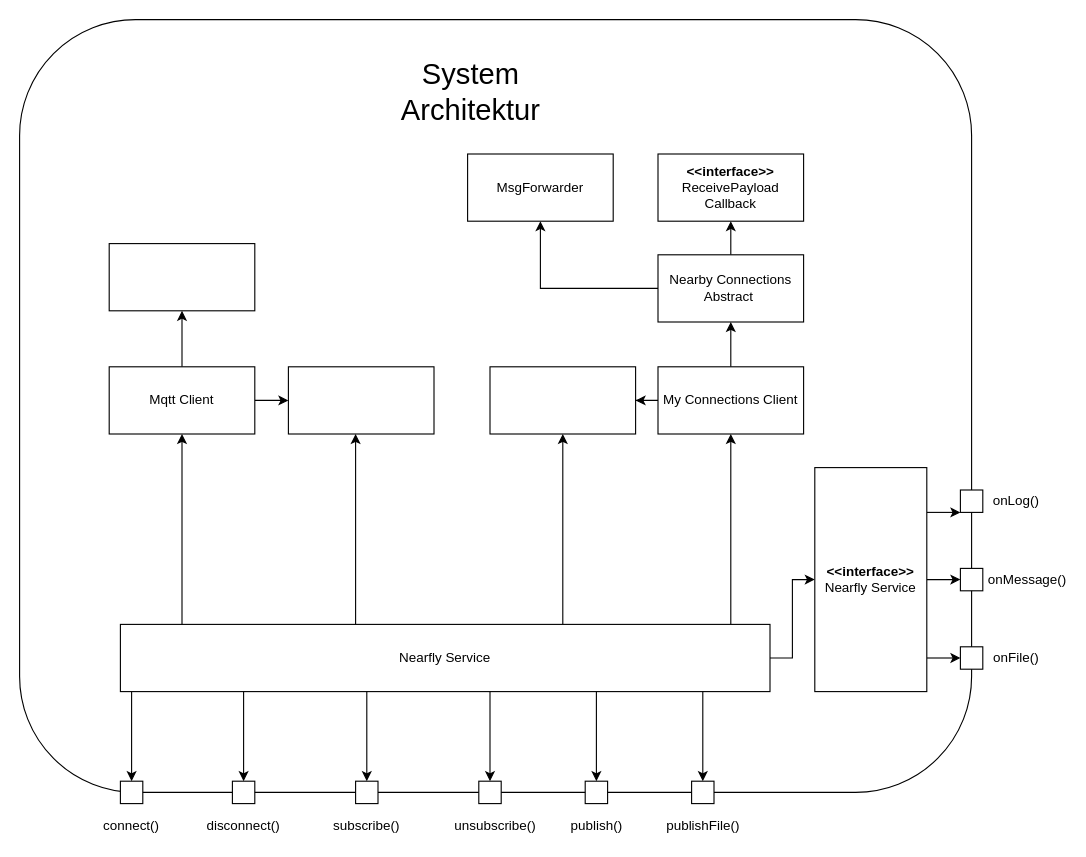
The diagram is 1086 pixels wide and 857 high, and some of its shapes have lost their labels. Each missing label, with the centre of its shape:
<<interface>> MQTT-Listener: (360,400)
<<interface>> Nearby-Listener: (562,400)
MqttMessaging: (181,276)
